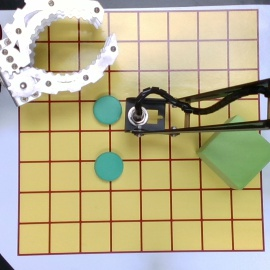green: (95, 152, 123, 181), (93, 96, 122, 123)
